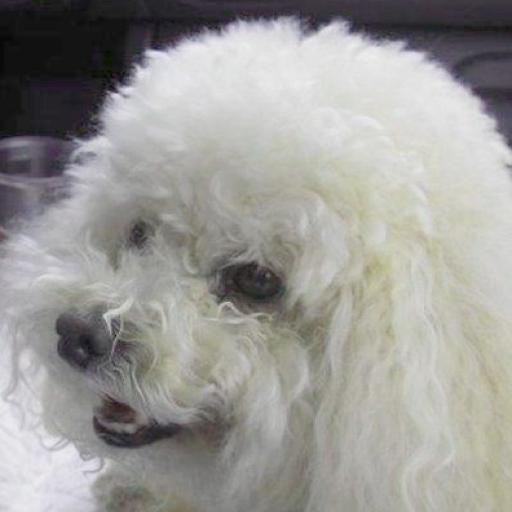dog_face: (23, 49, 471, 485)
